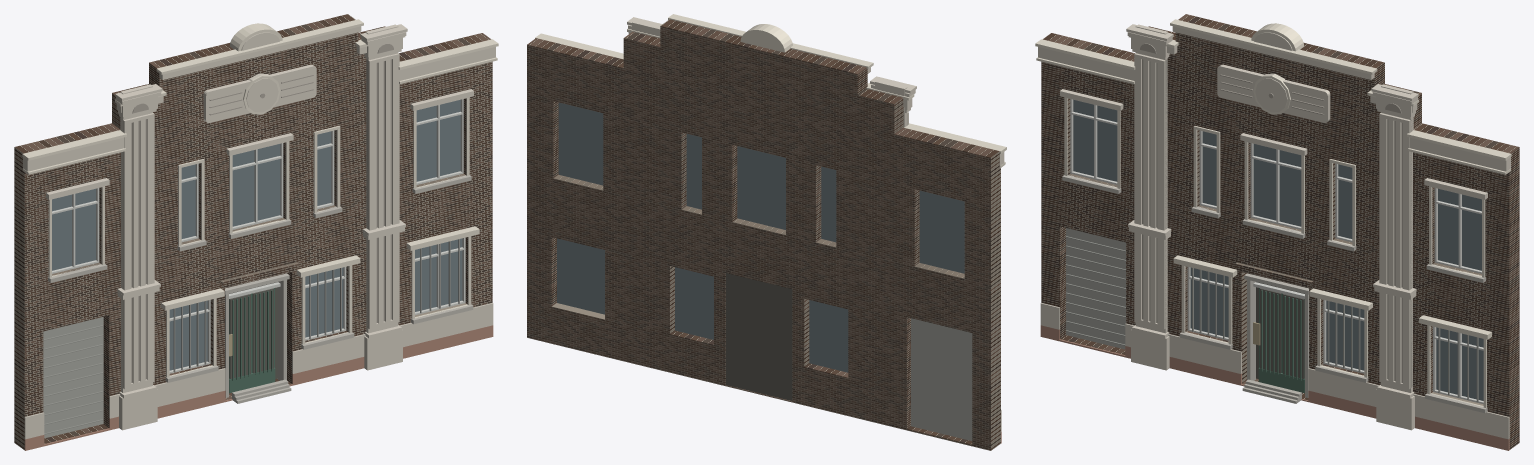
File: huangpu-yuanyuanchang-bank-jiangxi-front-lod.glb
The picture shows the model from 3 angles, left to right: view 1: azimuth 30°, elevation 25°; view 2: azimuth 150°, elevation 25°; view 3: azimuth 330°, elevation 25°; orthographic projection.
Visible parts, largest first — view 1: 源源长银行江西中路473号圆徽砖立面; view 2: 源源长银行江西中路473号圆徽砖立面; view 3: 源源长银行江西中路473号圆徽砖立面.
Boxes of the visible parts, <box> form: 源源长银行江西中路473号圆徽砖立面: <box>14,14,498,450</box>; 源源长银行江西中路473号圆徽砖立面: <box>527,14,1006,450</box>; 源源长银行江西中路473号圆徽砖立面: <box>1035,14,1519,450</box>.
Size of the model in its own units: 19.14 by 14.17 by 1.15.
13 materials, 1 textured.
